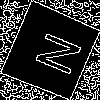N: (25, 26, 83, 78)
